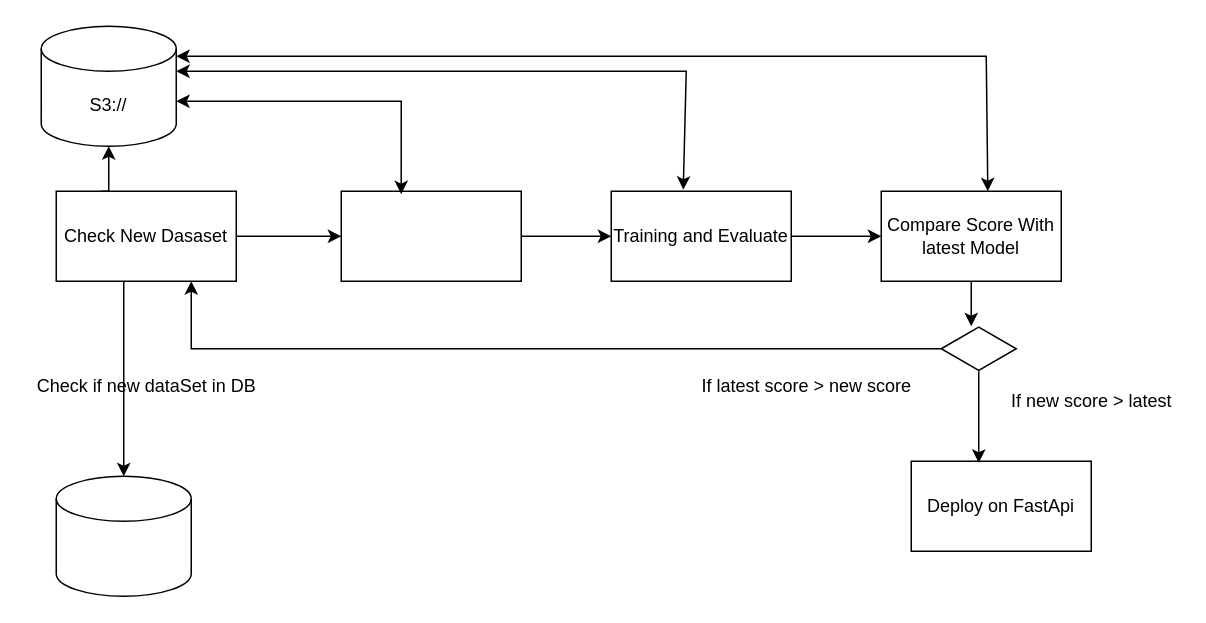
Some shapes in this 1206 by 623 pixel diagram are drawn without their labels. The shapes that lost their labels are listed below. From the top down, each one's centre as x and y in pixels, then its label:
point (430, 235): Prepare Data
point (123, 535): FILE_CSV
